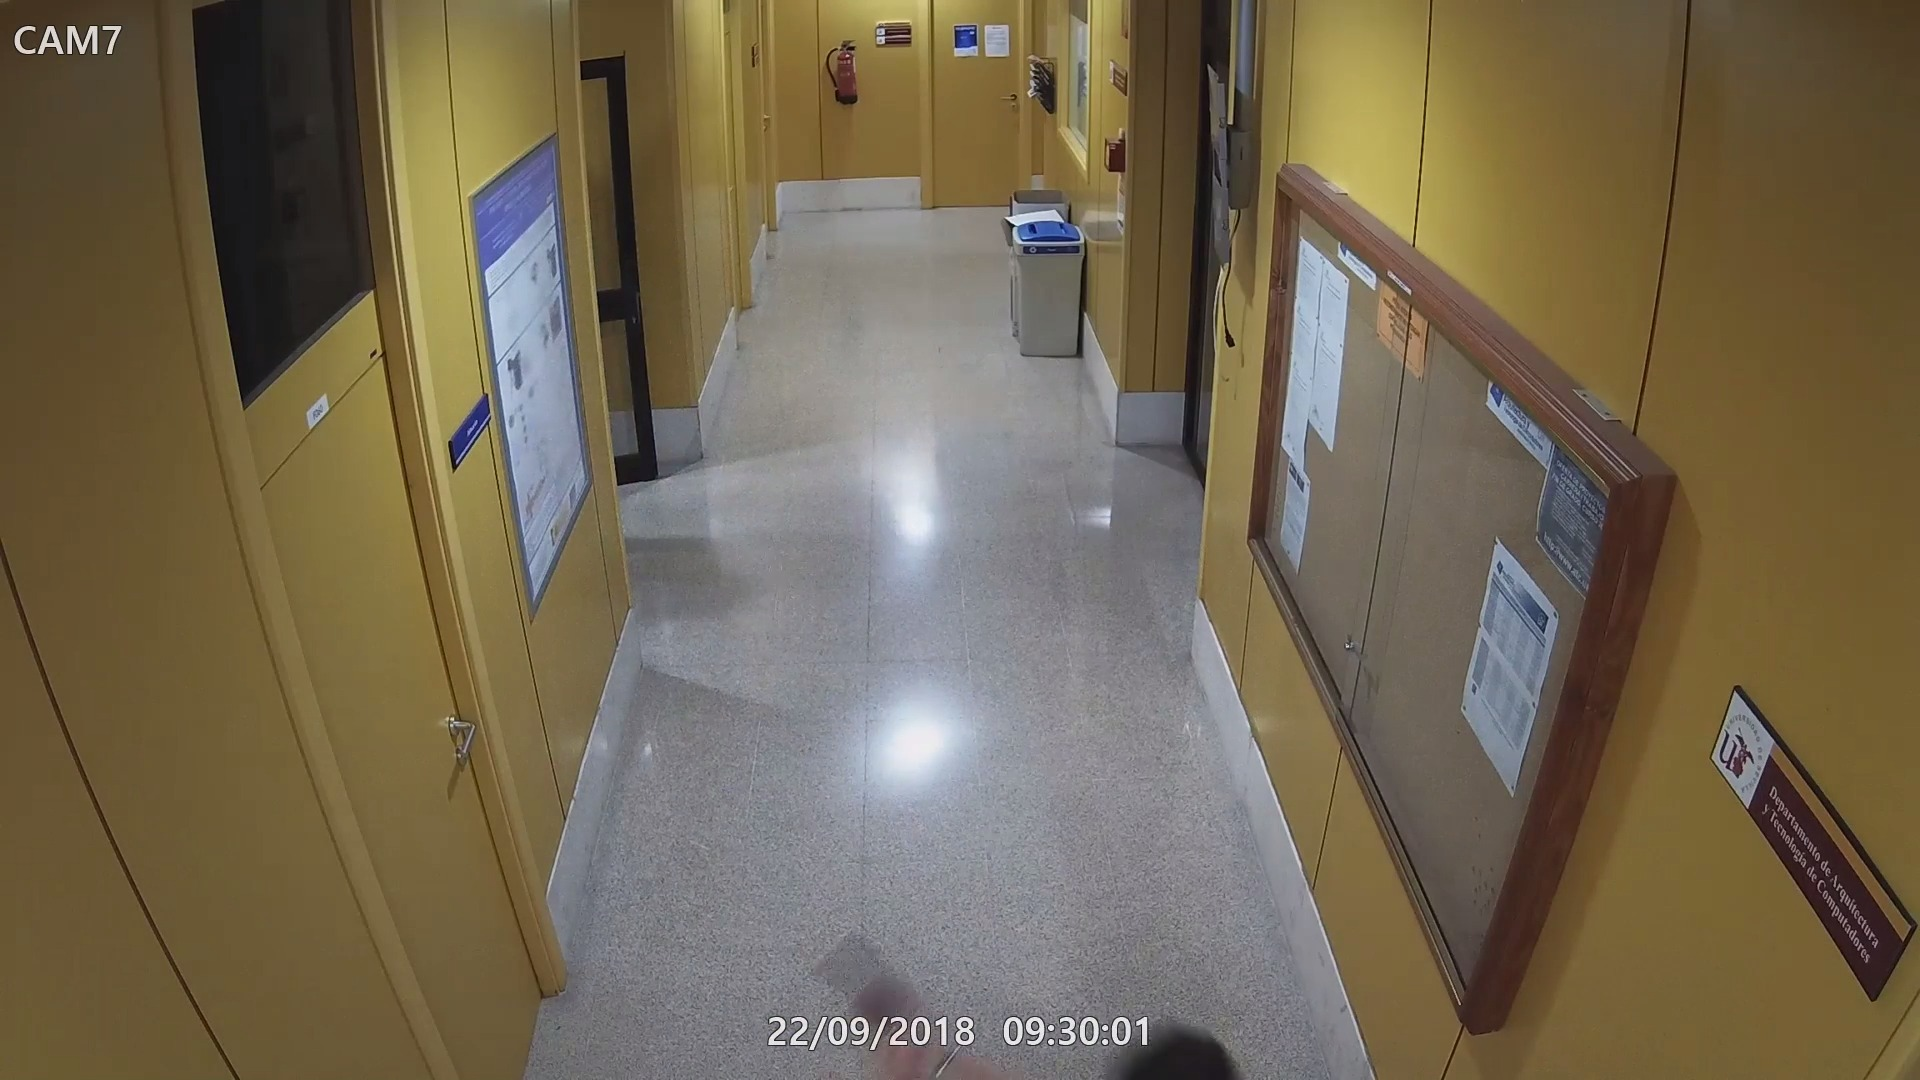Handgun: (808, 934, 918, 1017)
